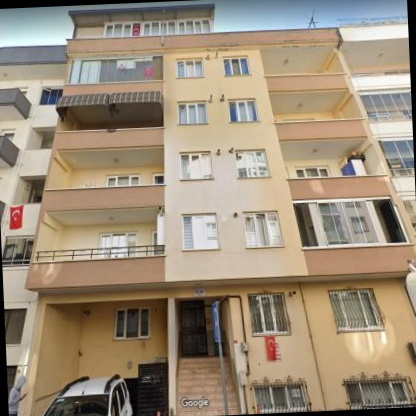door: (136, 363, 168, 416), (180, 300, 207, 355), (151, 230, 164, 256), (7, 366, 18, 395), (1, 131, 15, 142), (152, 173, 164, 184), (32, 191, 38, 202)
